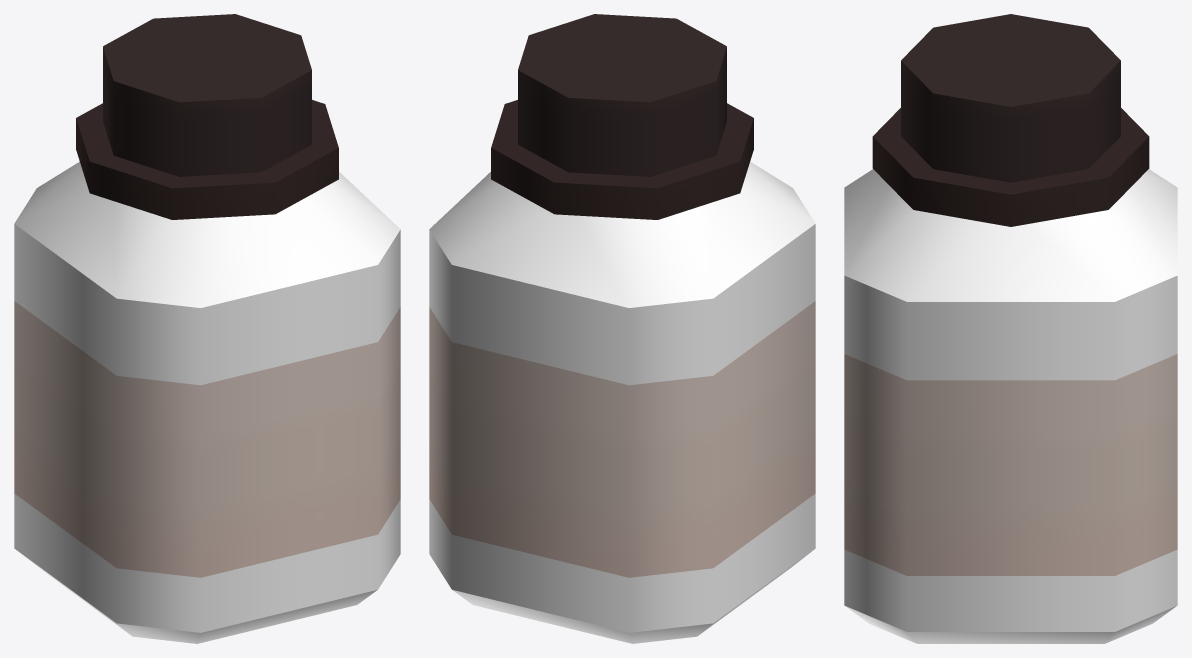
Rendered from Pfb_JLAB_Bottle__3.fbx.
3 renders of one model, left to right at view 1: azimuth 30°, elevation 25°; view 2: azimuth 150°, elevation 25°; view 3: azimuth 270°, elevation 25°, orthographic.
Parts seen in each view (by area): view 1: Color, Glass; view 2: Color, Glass; view 3: Color, Glass.
Part boxes in pixels (x1=…): Color: x1=14, y1=14, x2=400, y2=577; Glass: x1=14, y1=161, x2=400, y2=643; Color: x1=429, y1=14, x2=815, y2=577; Glass: x1=429, y1=161, x2=815, y2=643; Color: x1=844, y1=14, x2=1177, y2=575; Glass: x1=844, y1=169, x2=1177, y2=643.
Size of the model in its own units: 0.07 by 0.1213 by 0.07.
Materials: 2 (2 with a texture image).
